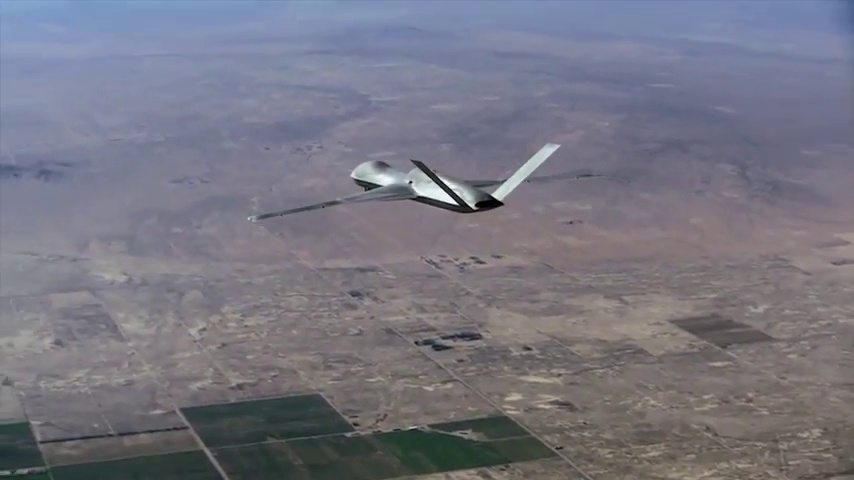military drone: (248, 142, 607, 221)
